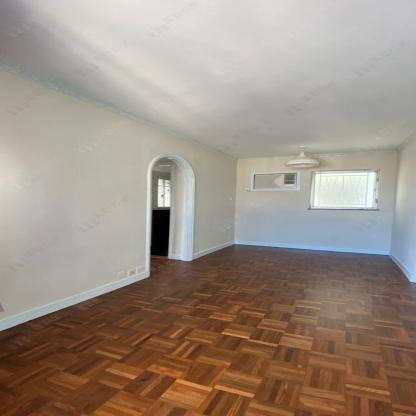AC: (248, 170, 301, 191)
